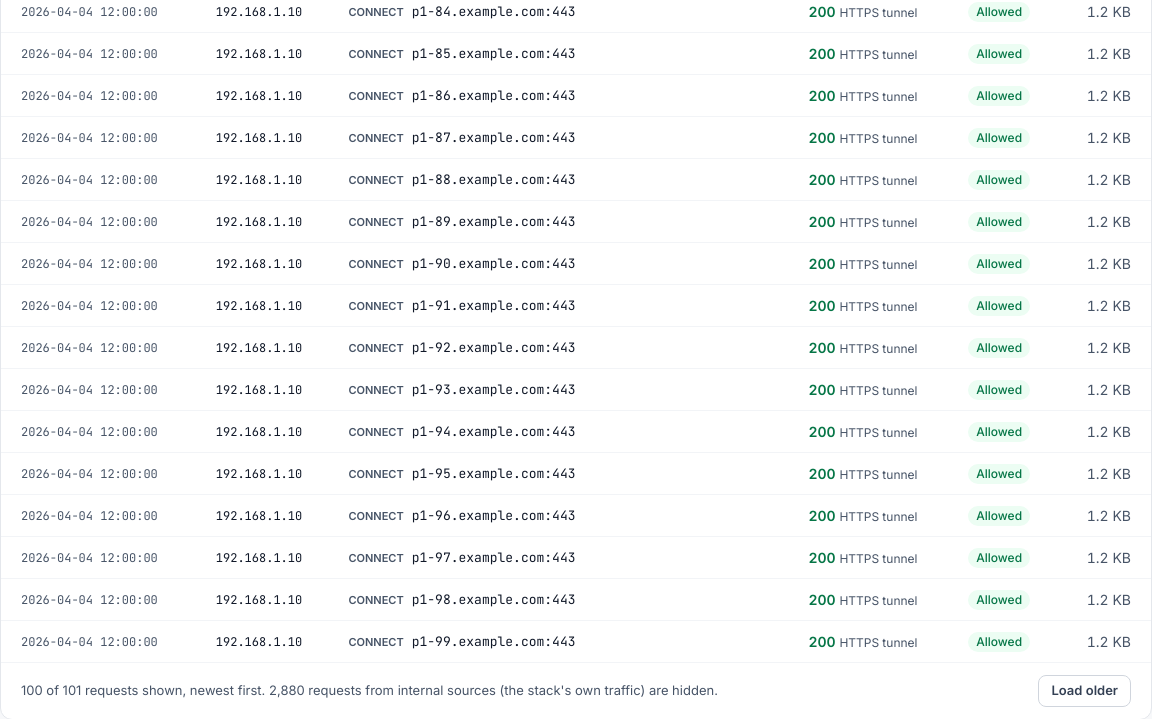
Test: Logs › loads older rows with the cursor of the last row shown
(page scrolled)
Step 1. Click the button "Load older" → point(1085, 691), box [1038,675,1131,707]
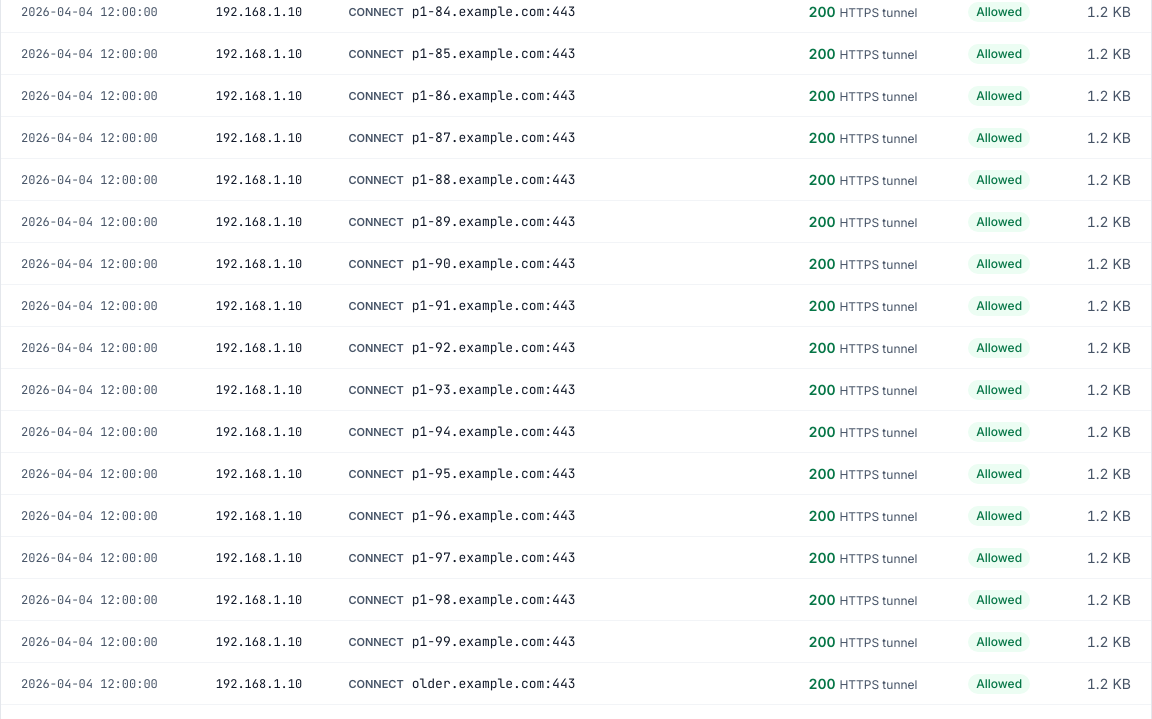
Now the button "Load older" is gone
